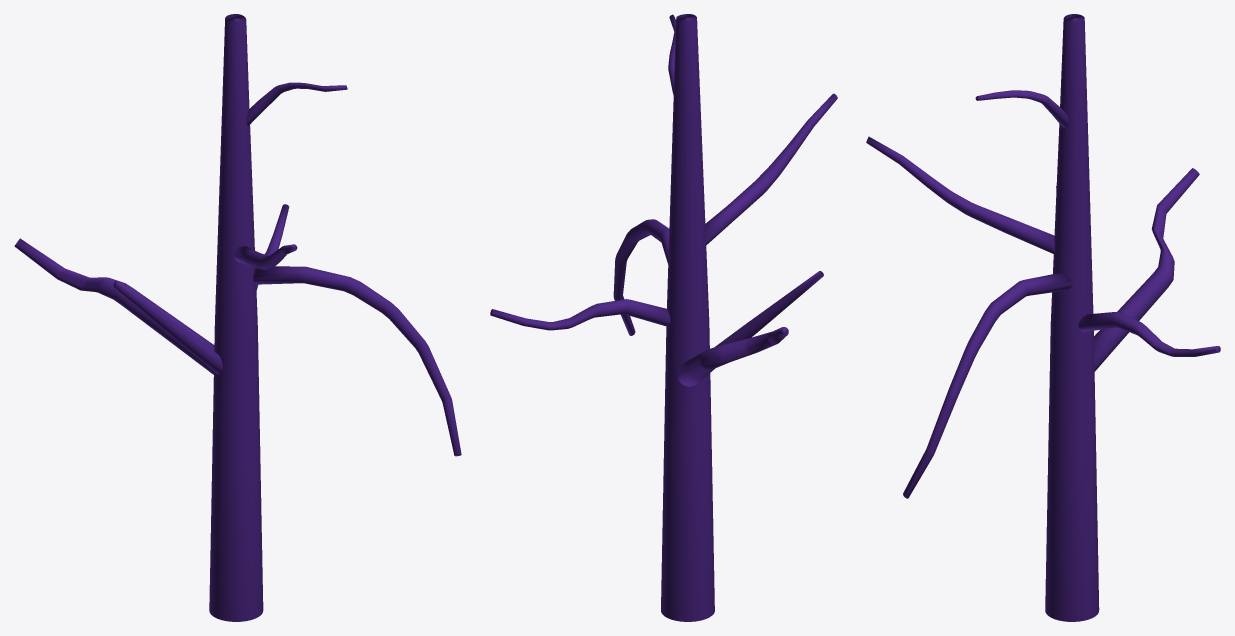
File: Arbol_dead2.fbx
3 renders of one model, left to right at view 1: azimuth 30°, elevation 25°; view 2: azimuth 150°, elevation 25°; view 3: azimuth 270°, elevation 25°, orthographic.
Visible parts, largest first — view 1: Arbol_dead.002; view 2: Arbol_dead.002; view 3: Arbol_dead.002.
Part boxes in pixels (box(x1,y1,x2,y2)): Arbol_dead.002: box(14, 14, 461, 621); Arbol_dead.002: box(490, 14, 837, 621); Arbol_dead.002: box(866, 14, 1220, 621).
Bounding box in the file's own units: 188 × 347 × 188.
